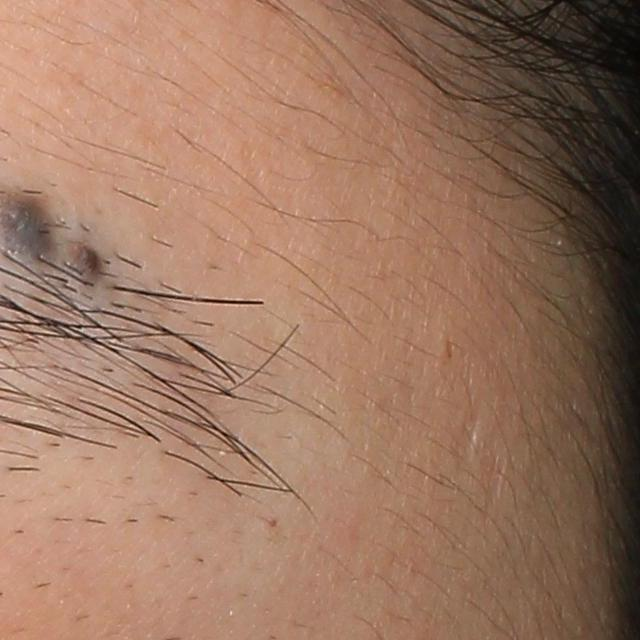nevus: (76, 246, 108, 284)
